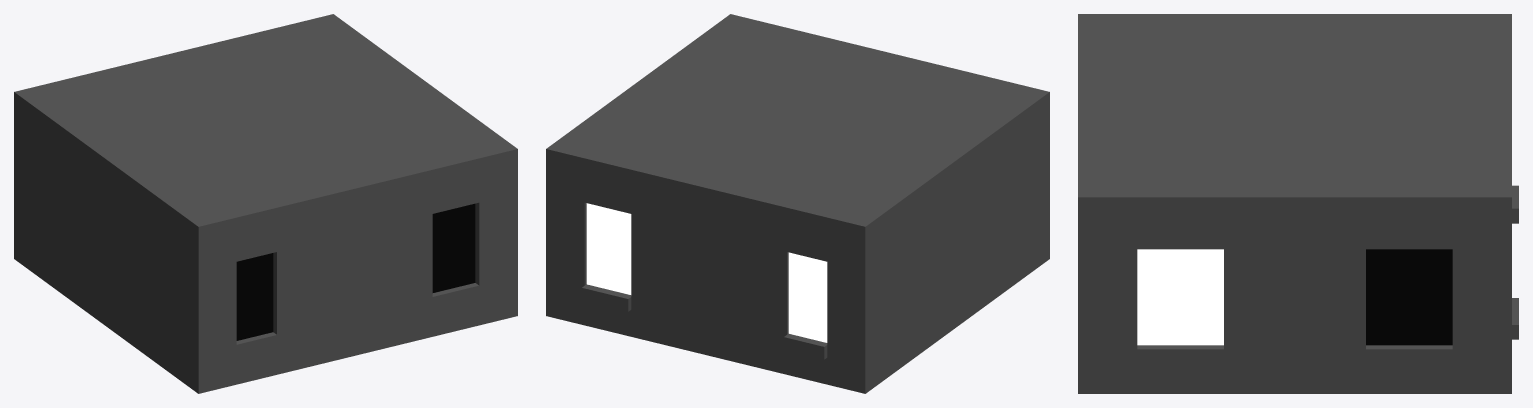
File: Immeuble1Milieu4.fbx
3 renders of one model, left to right at view 1: azimuth 30°, elevation 25°; view 2: azimuth 150°, elevation 25°; view 3: azimuth 270°, elevation 25°, orthographic. The views are drawn at different scales.
Parts seen in each view (by area): view 1: Cube.025; view 2: Cube.025; view 3: Cube.025.
Boxes of the visible parts, bbox=[...] form: Cube.025: bbox=[14, 14, 517, 393]; Cube.025: bbox=[546, 14, 1049, 393]; Cube.025: bbox=[1078, 14, 1518, 393].
Bounding box in the file's own units: 2024 × 1000 × 2032.
